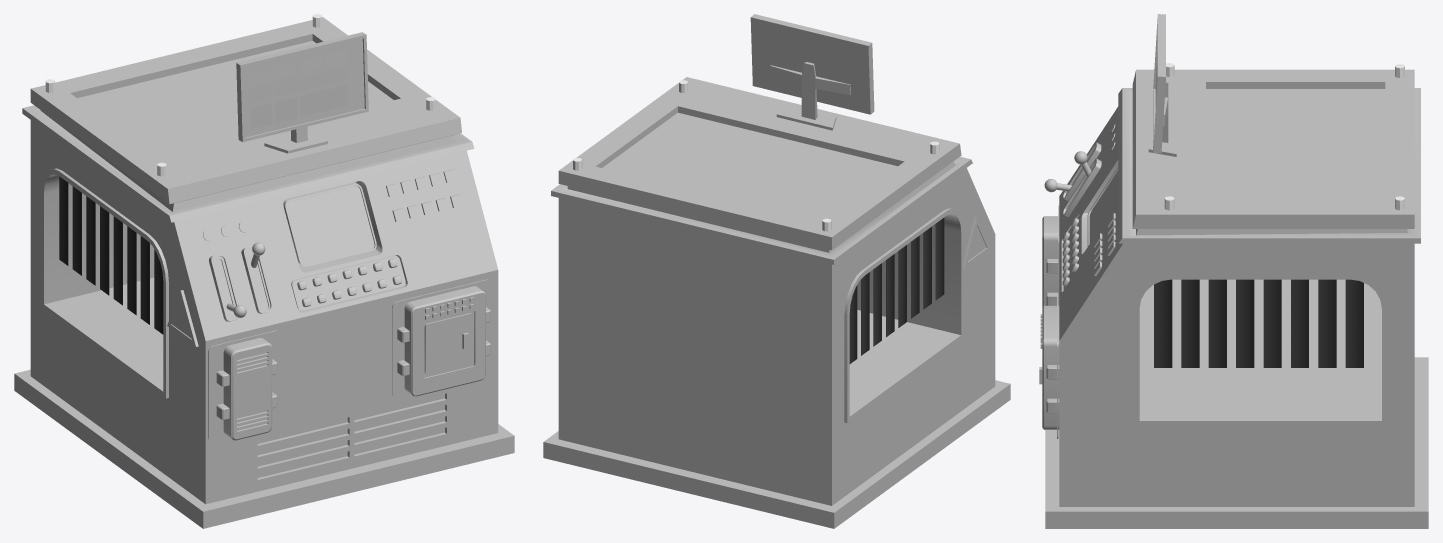
The model's file is Machn_v3_4.fbx.
3 views of the same model, side by side, from view 1: azimuth 30°, elevation 25°; view 2: azimuth 150°, elevation 25°; view 3: azimuth 270°, elevation 25° (orthographic). The views are drawn at different scales.
Parts seen in each view (by area): view 1: Machn_v3_4, Pc, Plane_1.011; view 2: Machn_v3_4, Pc, Plane_1.011; view 3: Machn_v3_4, Plane_2.011, Pc.
Part boxes in pixels (left/top/right/bottom): Machn_v3_4: left=14, top=14, right=514, bottom=528; Pc: left=236, top=32, right=368, bottom=153; Plane_1.011: left=59, top=176, right=163, bottom=334; Machn_v3_4: left=543, top=77, right=1010, bottom=528; Pc: left=750, top=14, right=874, bottom=130; Plane_1.011: left=849, top=217, right=944, bottom=363; Machn_v3_4: left=1039, top=63, right=1428, bottom=528; Plane_2.011: left=1154, top=279, right=1363, bottom=367; Pc: left=1148, top=14, right=1176, bottom=156.
Bounding box in the file's own units: 263 × 323 × 281.
